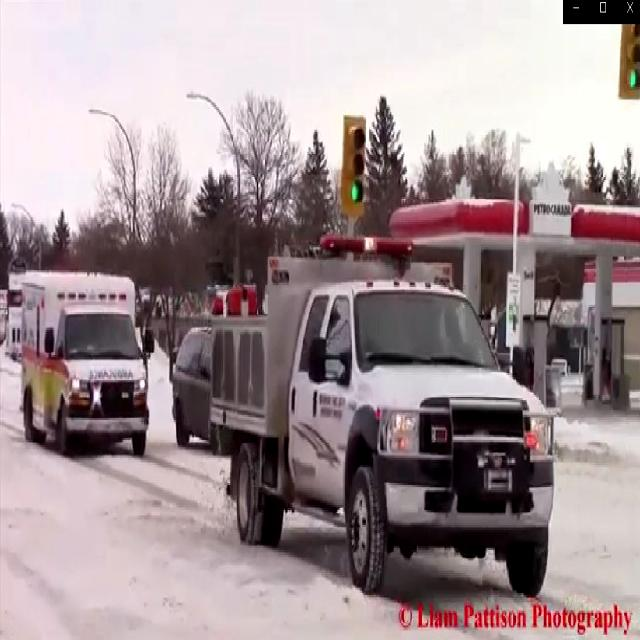emergency: (210, 233, 557, 593), (19, 267, 149, 452)
